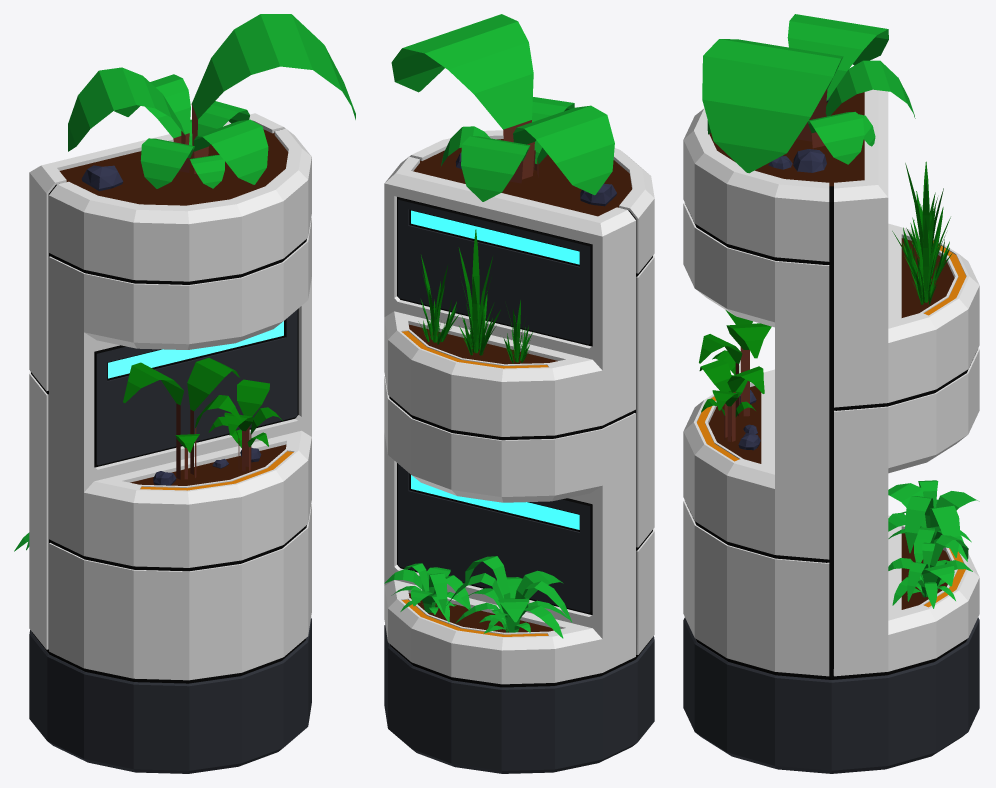
The model's file is SM_Botanical_VerticalPlanter_Cylinder.fbx.
3 views of the same model, side by side, from view 1: azimuth 30°, elevation 25°; view 2: azimuth 150°, elevation 25°; view 3: azimuth 270°, elevation 25° (orthographic). The views are drawn at different scales.
Visible parts, largest first — view 1: SM_Botanical_VerticalPlanter_Cylinder; view 2: SM_Botanical_VerticalPlanter_Cylinder; view 3: SM_Botanical_VerticalPlanter_Cylinder.
Part boxes in pixels (x1,y1,x2,y2): SM_Botanical_VerticalPlanter_Cylinder: (14, 14, 355, 773); SM_Botanical_VerticalPlanter_Cylinder: (384, 14, 654, 773); SM_Botanical_VerticalPlanter_Cylinder: (683, 14, 979, 773).
Bounding box in the file's own units: 72.71 × 171 × 65.58.
